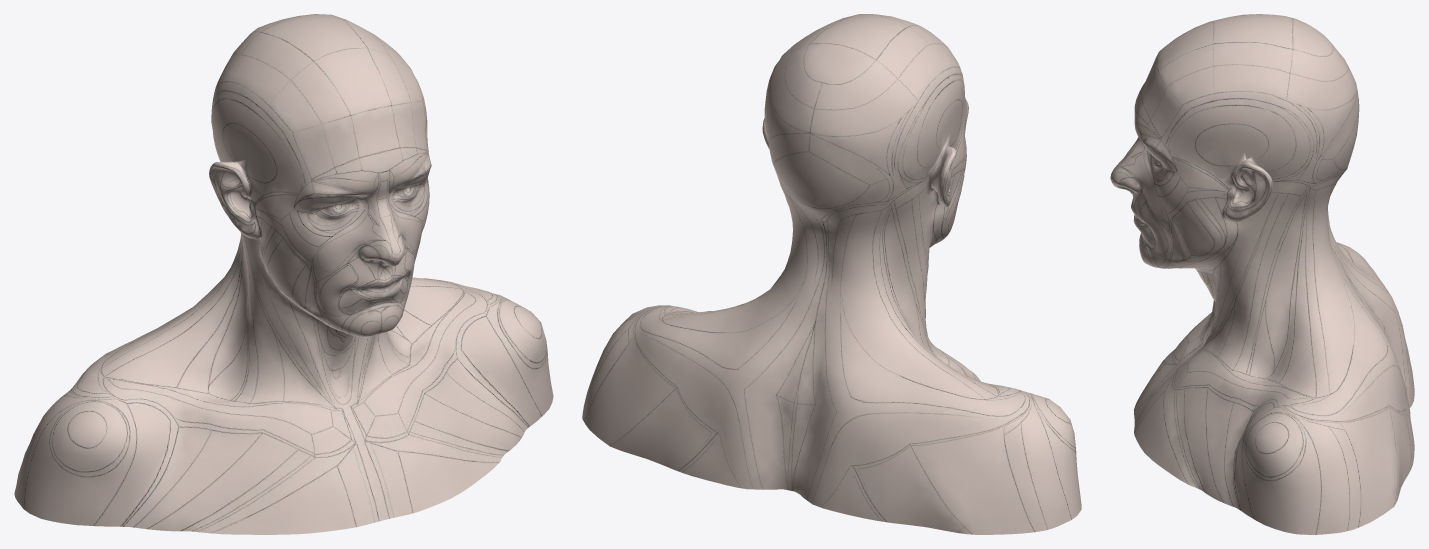
The model's file is 头部分面体_20260324183537_opt.glb.
3 renders of one model, left to right at view 1: azimuth 30°, elevation 25°; view 2: azimuth 150°, elevation 25°; view 3: azimuth 270°, elevation 25°, orthographic. The views are drawn at different scales.
Parts seen in each view (by area): view 1: LowPo005; view 2: LowPo005; view 3: LowPo005.
Boxes of the visible parts, x1,y1,x2,y2 form: LowPo005: [14, 14, 553, 534]; LowPo005: [582, 14, 1081, 534]; LowPo005: [1110, 14, 1414, 534].
Bounding box in the file's own units: 0.4894 × 0.4 × 0.277.
Materials: 2 (1 with a texture image).
